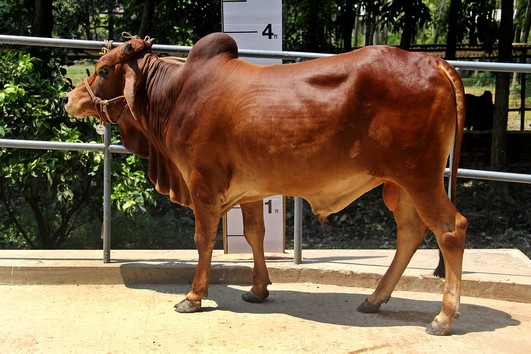cow: (57, 32, 470, 337)
